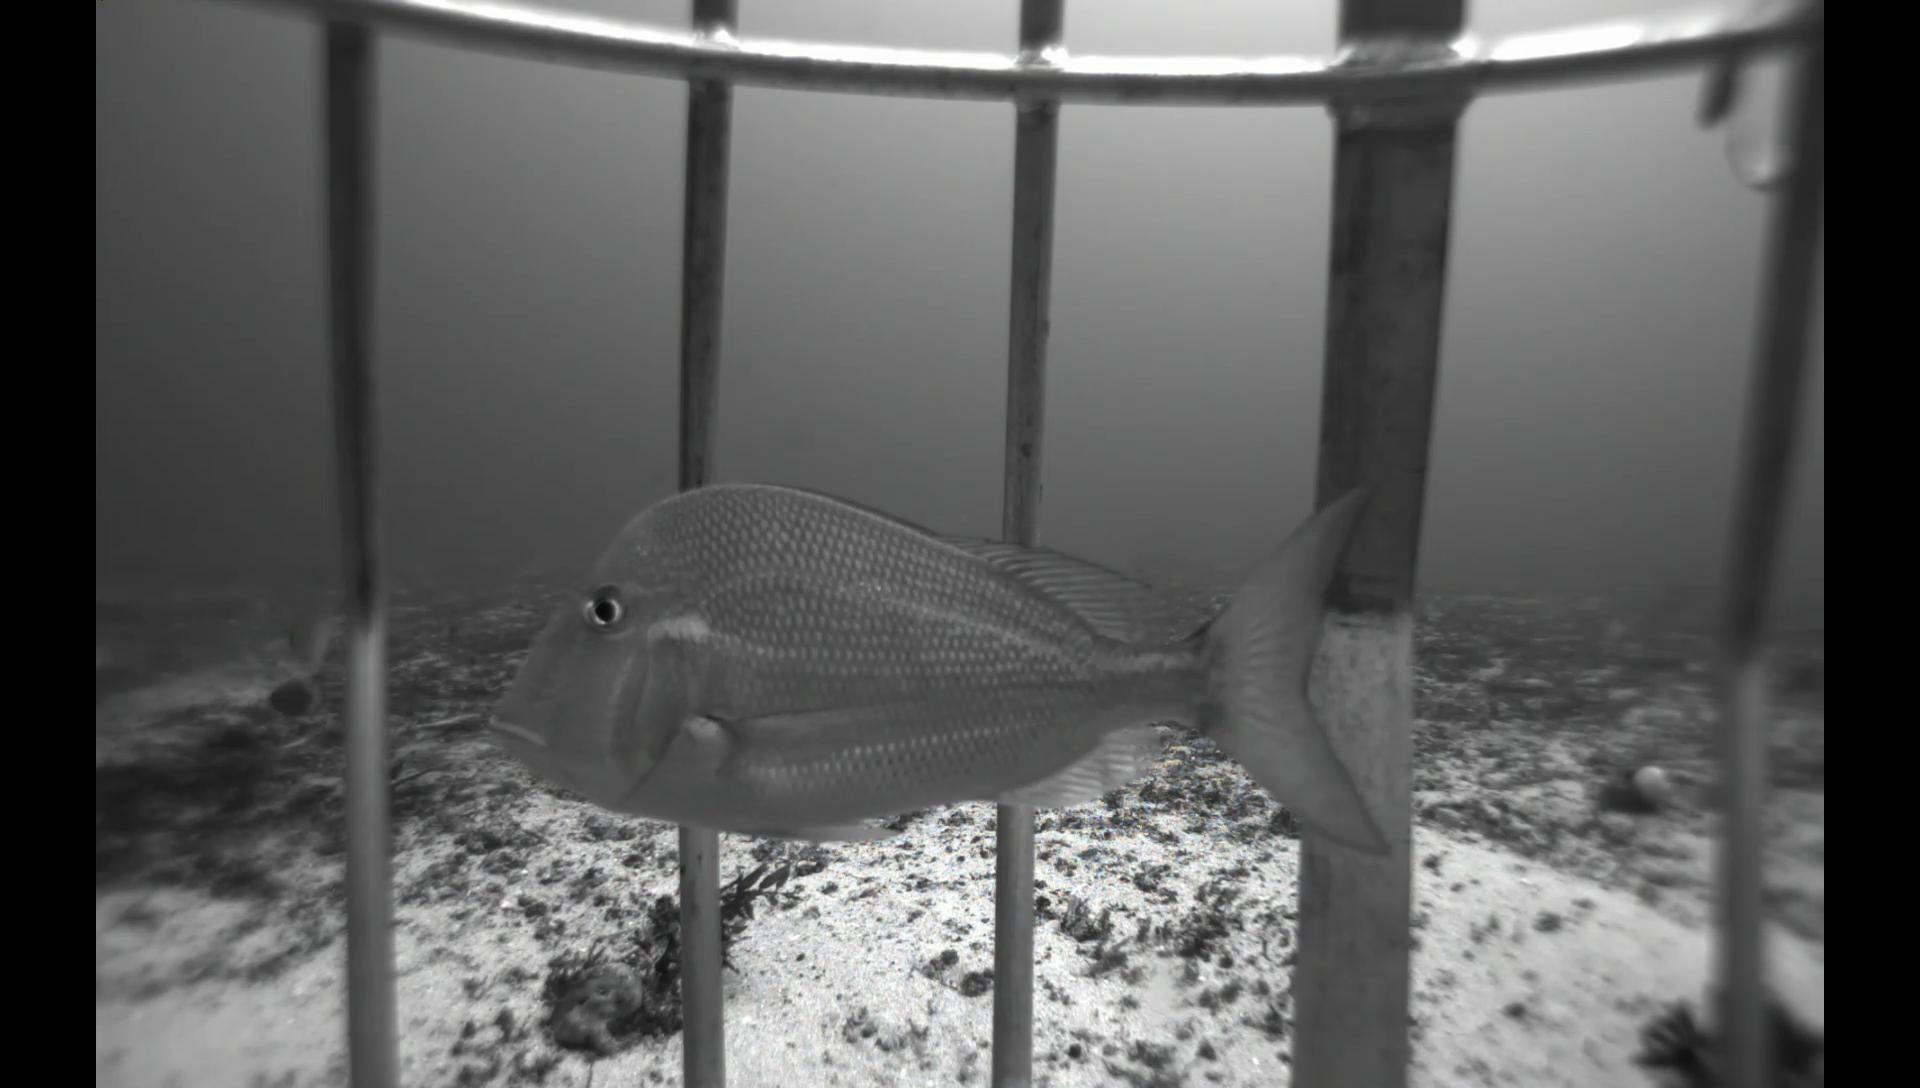CALAMUSNODOSUS-170210608: (280, 568, 345, 683)
CALAMUSPRORIDENS-170210605: (473, 456, 1415, 866)
CHAETODONOCELLATUS-170260307: (1588, 607, 1633, 646)
PRISTIGENYSALTA-170050401: (258, 665, 330, 723)
